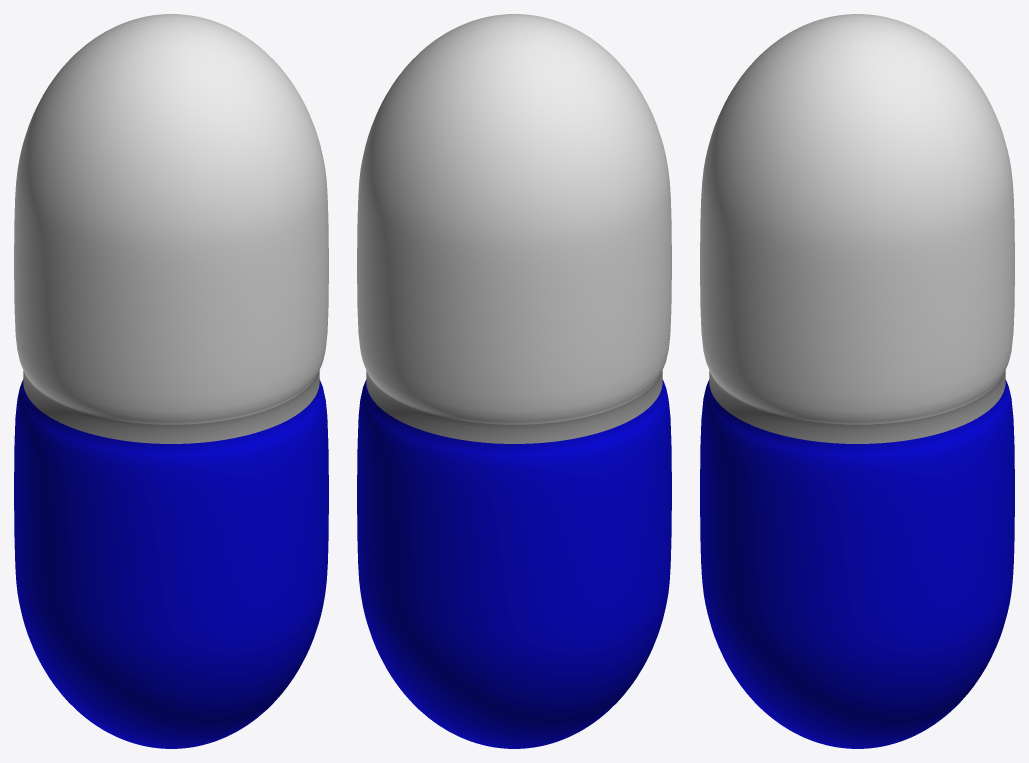
File: blue_white pill.fbx
3 views of the same model, side by side, from view 1: azimuth 30°, elevation 25°; view 2: azimuth 150°, elevation 25°; view 3: azimuth 270°, elevation 25° (orthographic).
Parts seen in each view (by area): view 1: pCylinder11; view 2: pCylinder11; view 3: pCylinder11.
Boxes of the visible parts, x1,y1,x2,y2 form: pCylinder11: (14,14,328,748); pCylinder11: (357,14,671,748); pCylinder11: (700,14,1014,748).
Size of the model in its own units: 0.5553 by 1.39 by 0.5553.
